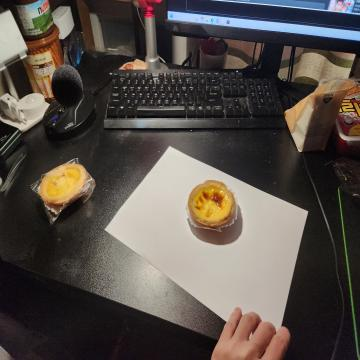EggTart: (189, 178, 236, 229)
